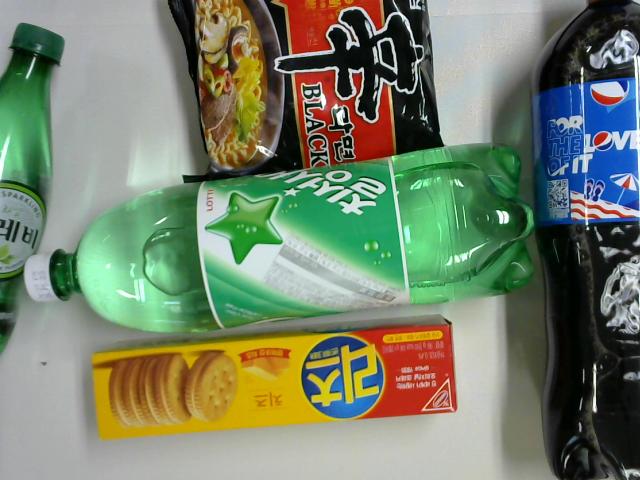Chilseong_Cider_1.5L: (23, 141, 537, 344)
Pepsi_Cola_1.5L: (532, 2, 639, 479)
Ritz_Sand_Cracker: (89, 312, 458, 445)
Sinramen_Black: (168, 1, 448, 184)
Treviraim_500ml: (2, 18, 67, 352)
